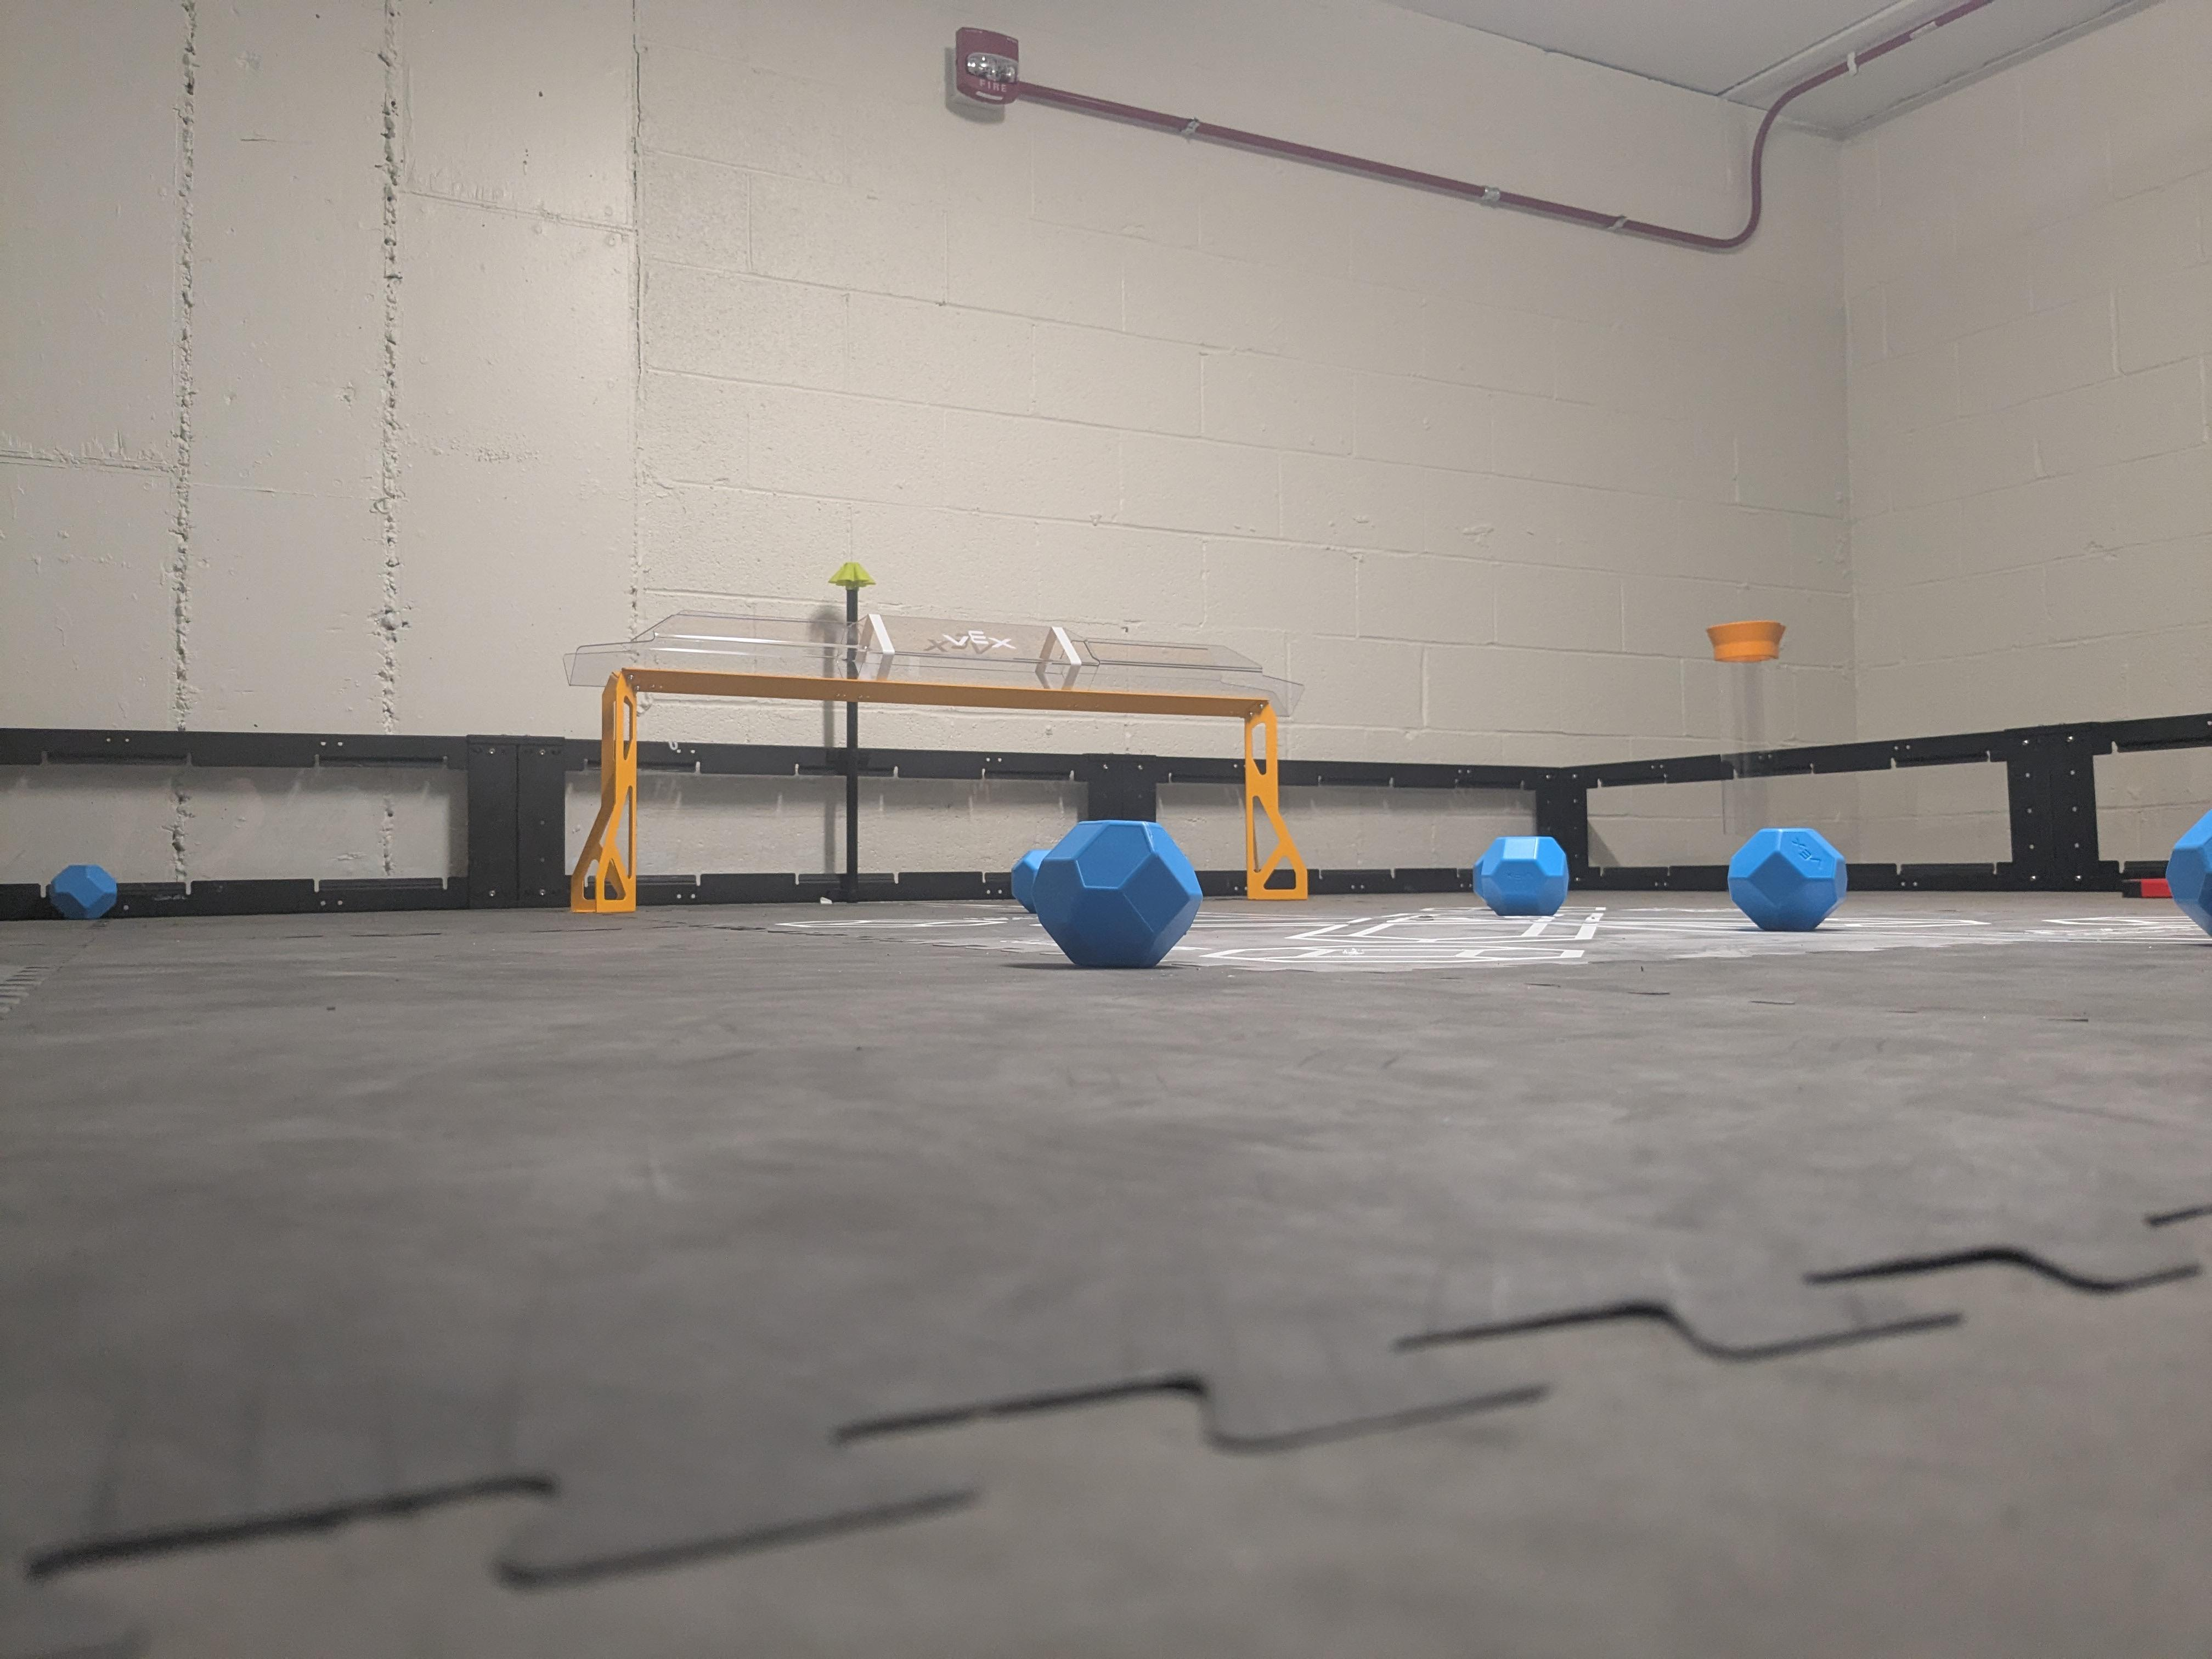Vex-Pieces-BLUE: (1015, 824, 1198, 965), (1728, 826, 1848, 931), (1472, 835, 1571, 911), (2163, 809, 2207, 934), (51, 866, 117, 920)
